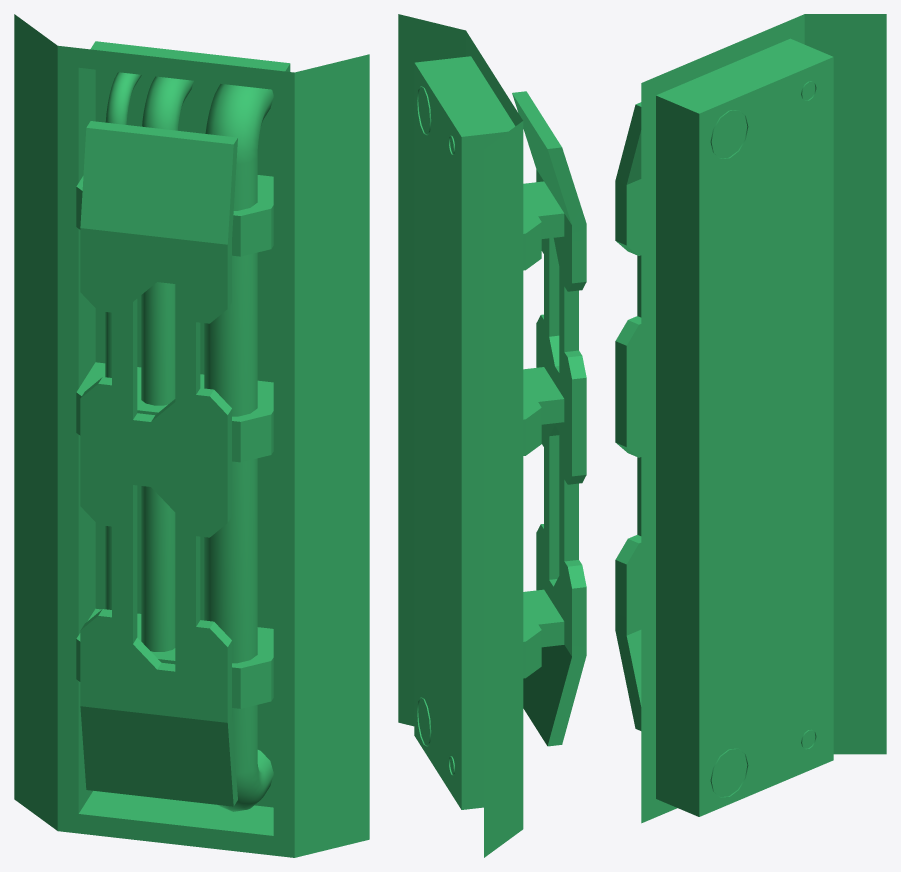
Rendered from Wall_B_4x1m_TurnIn.FBX.
3 renders of one model, left to right at view 1: azimuth 30°, elevation 25°; view 2: azimuth 150°, elevation 25°; view 3: azimuth 270°, elevation 25°, orthographic. The views are drawn at different scales.
Parts seen in each view (by area): view 1: Wall_B_4x1m_TurnIn; view 2: Wall_B_4x1m_TurnIn; view 3: Wall_B_4x1m_TurnIn.
Part boxes in pixels (x1,y1,x2,y2): Wall_B_4x1m_TurnIn: (14, 14, 369, 857); Wall_B_4x1m_TurnIn: (398, 14, 586, 857); Wall_B_4x1m_TurnIn: (615, 14, 886, 823).
Size of the model in its own units: 133 by 400 by 133.
